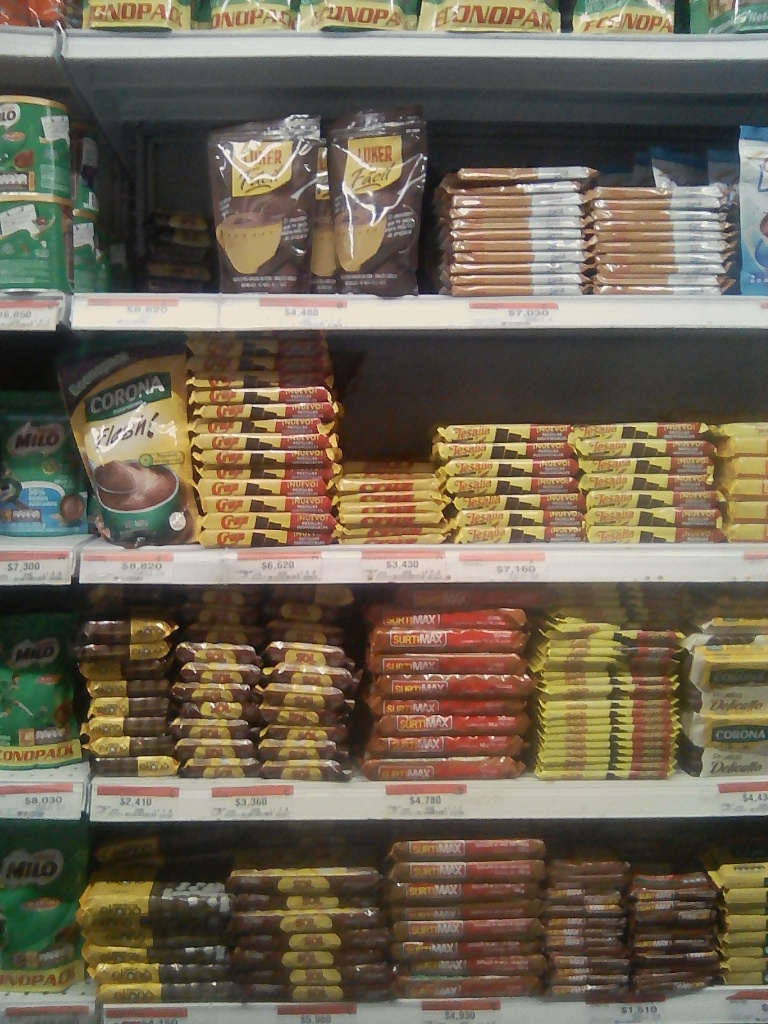COL0170203DYP25000: (1, 607, 86, 761)
COL0170203DYP50000: (0, 817, 82, 994)
COL0170203LAT20000: (2, 97, 80, 193)
COL0170205DYP20000: (1, 382, 91, 549)
